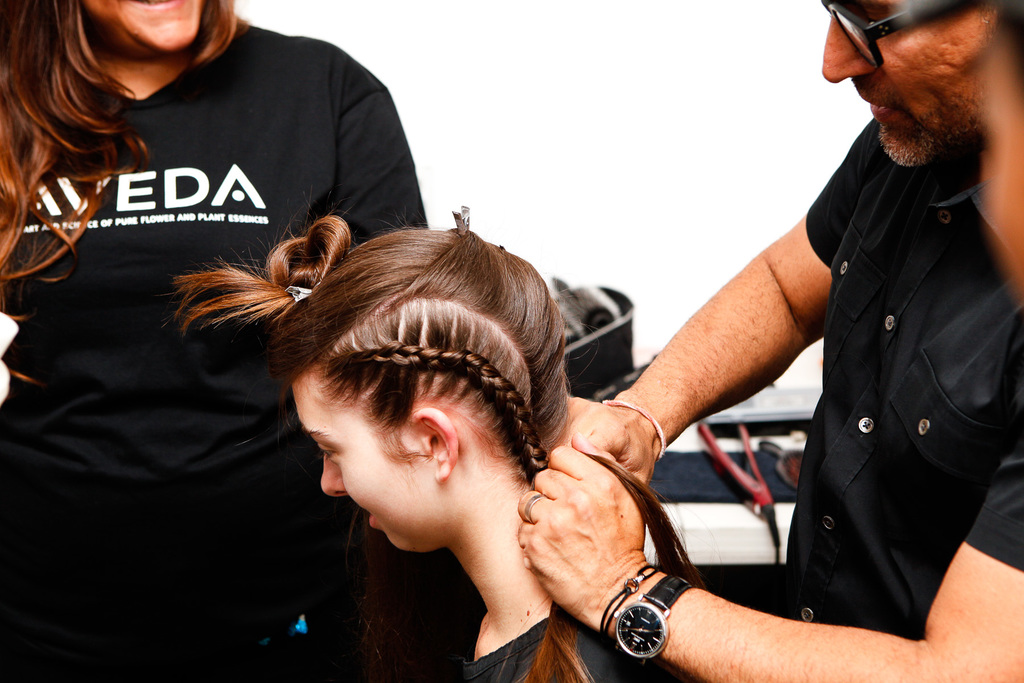Human-face: (821, 0, 993, 170), (301, 367, 436, 559), (84, 0, 202, 52)
